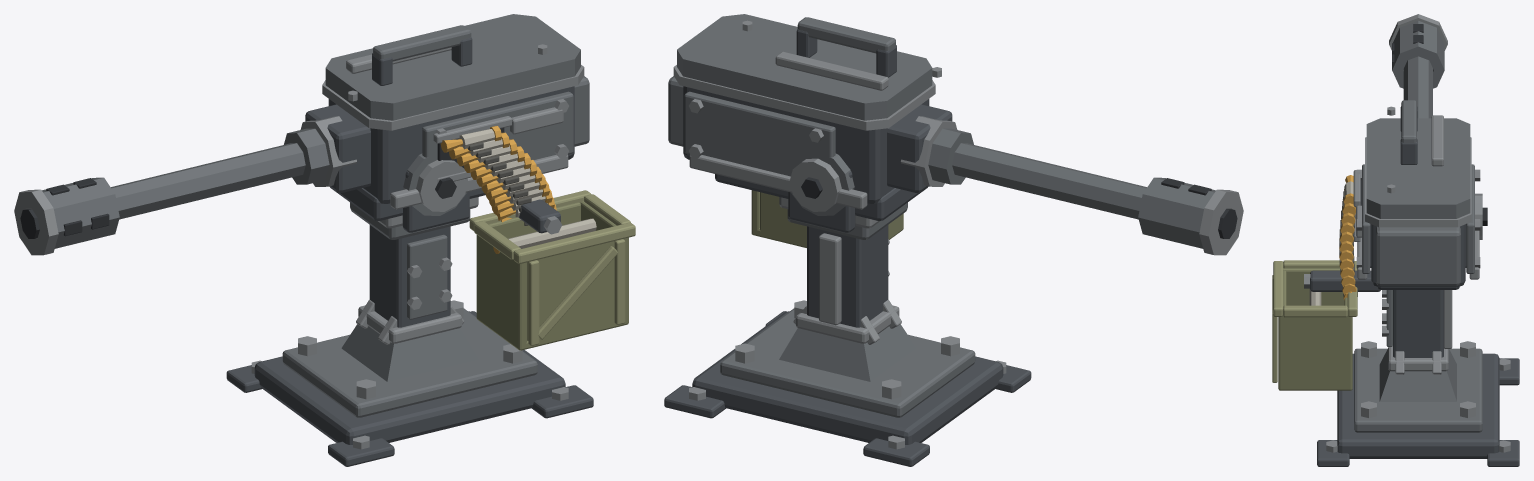
Rendered from Synty_LowPoly_Turret_Lvl1.fbx.
3 views of the same model, side by side, from view 1: azimuth 30°, elevation 25°; view 2: azimuth 150°, elevation 25°; view 3: azimuth 270°, elevation 25° (orthographic). The views are drawn at different scales.
Parts seen in each view (by area): view 1: Turret_Gun_Mesh, Turret_Base_Mesh, Turret_AmmoBox_Mesh, Turret_AmmoBelt_Mesh, Turret_Yaw_Mesh; view 2: Turret_Gun_Mesh, Turret_Base_Mesh, Turret_Yaw_Mesh, Turret_AmmoBox_Mesh; view 3: Turret_Gun_Mesh, Turret_Base_Mesh, Turret_AmmoBox_Mesh, Turret_AmmoBelt_Mesh, Turret_Yaw_Mesh.
Boxes of the visible parts, box(x1,y1,x2,y2) form: Turret_Gun_Mesh: box(14, 14, 589, 255); Turret_Base_Mesh: box(226, 202, 593, 466); Turret_AmmoBox_Mesh: box(469, 190, 635, 350); Turret_AmmoBelt_Mesh: box(440, 125, 556, 225); Turret_Yaw_Mesh: box(378, 153, 478, 232); Turret_Gun_Mesh: box(668, 14, 1243, 255); Turret_Base_Mesh: box(664, 202, 1031, 466); Turret_Yaw_Mesh: box(779, 153, 879, 232); Turret_AmmoBox_Mesh: box(751, 190, 903, 247); Turret_Gun_Mesh: box(1304, 14, 1480, 291); Turret_Base_Mesh: box(1317, 290, 1519, 466); Turret_AmmoBox_Mesh: box(1272, 260, 1357, 390); Turret_AmmoBelt_Mesh: box(1339, 175, 1357, 300); Turret_Yaw_Mesh: box(1355, 193, 1487, 267).
Size of the model in its own units: 3.37 by 2.15 by 1.6.
Materials: 1 (1 with a texture image).
